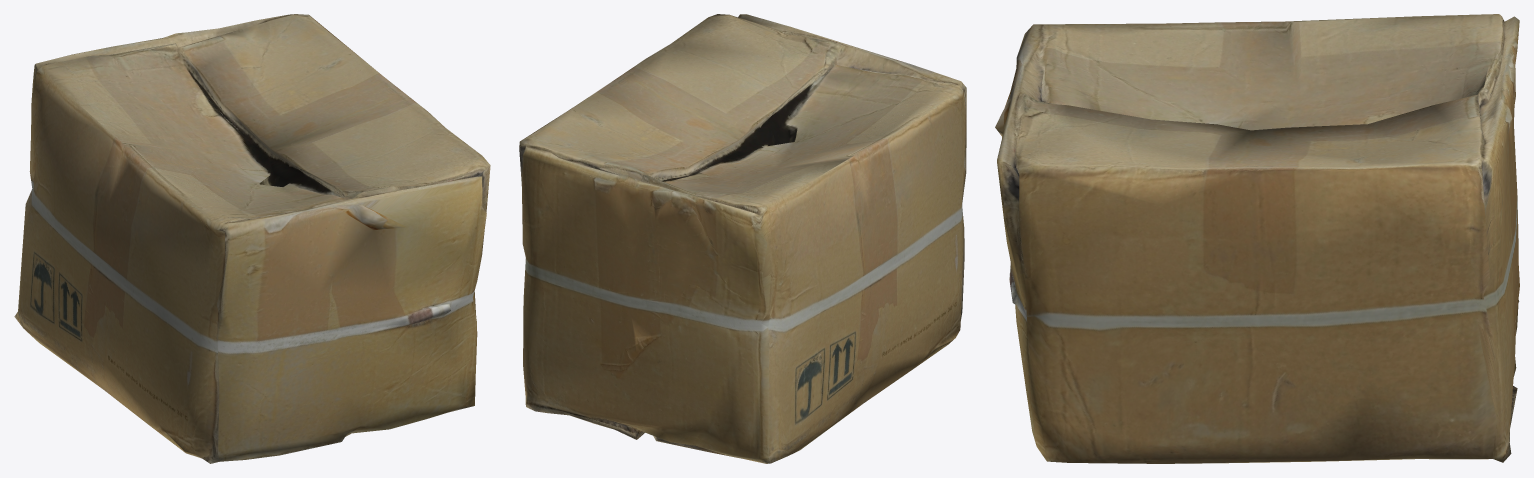
File: cardboard_box_01.glb
3 views of the same model, side by side, from view 1: azimuth 30°, elevation 25°; view 2: azimuth 150°, elevation 25°; view 3: azimuth 270°, elevation 25° (orthographic). The views are drawn at different scales.
Parts seen in each view (by area): view 1: cardboard_box_01; view 2: cardboard_box_01; view 3: cardboard_box_01.
Boxes of the visible parts, x1,y1,x2,y2 form: cardboard_box_01: (14,14,490,463); cardboard_box_01: (519,14,966,463); cardboard_box_01: (995,14,1519,463).
Size of the model in its own units: 0.3869 by 0.3394 by 0.5157.
Materials: 1 (1 with a texture image).
